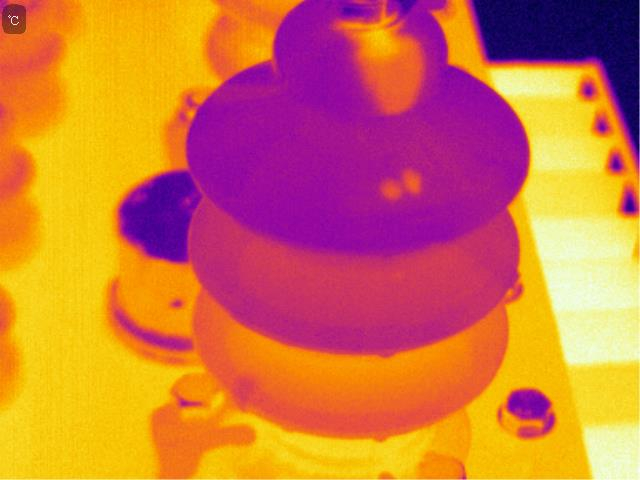Oil: (324, 1, 431, 120), (357, 420, 401, 453), (228, 375, 264, 414), (400, 165, 430, 196), (375, 175, 402, 207), (372, 340, 407, 364)
